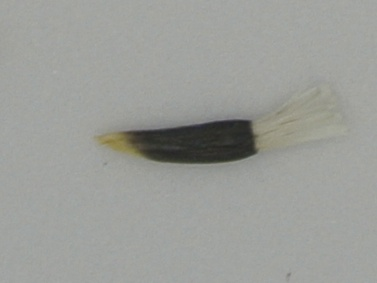เมล็ดดีติดกัน: (93, 80, 342, 169)
